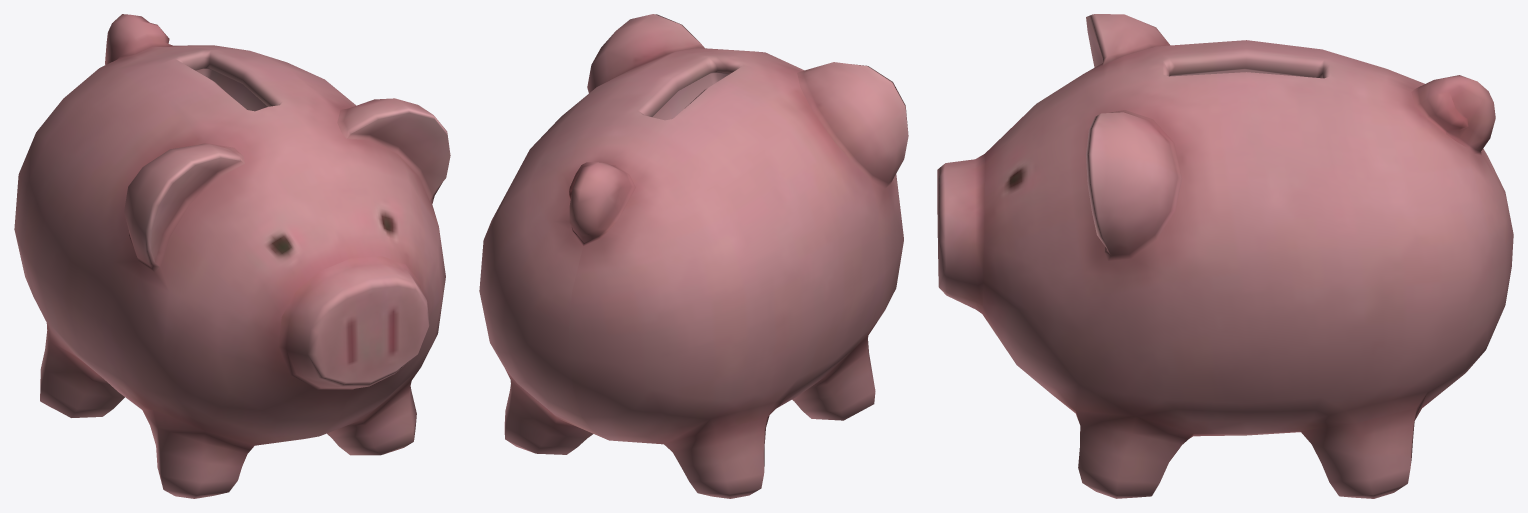
3 renders of one model, left to right at view 1: azimuth 30°, elevation 25°; view 2: azimuth 150°, elevation 25°; view 3: azimuth 270°, elevation 25°, orthographic. The views are drawn at different scales.
Size of the model in its own units: 4.76 by 4.98 by 6.81.
Materials: 1 (1 with a texture image).
